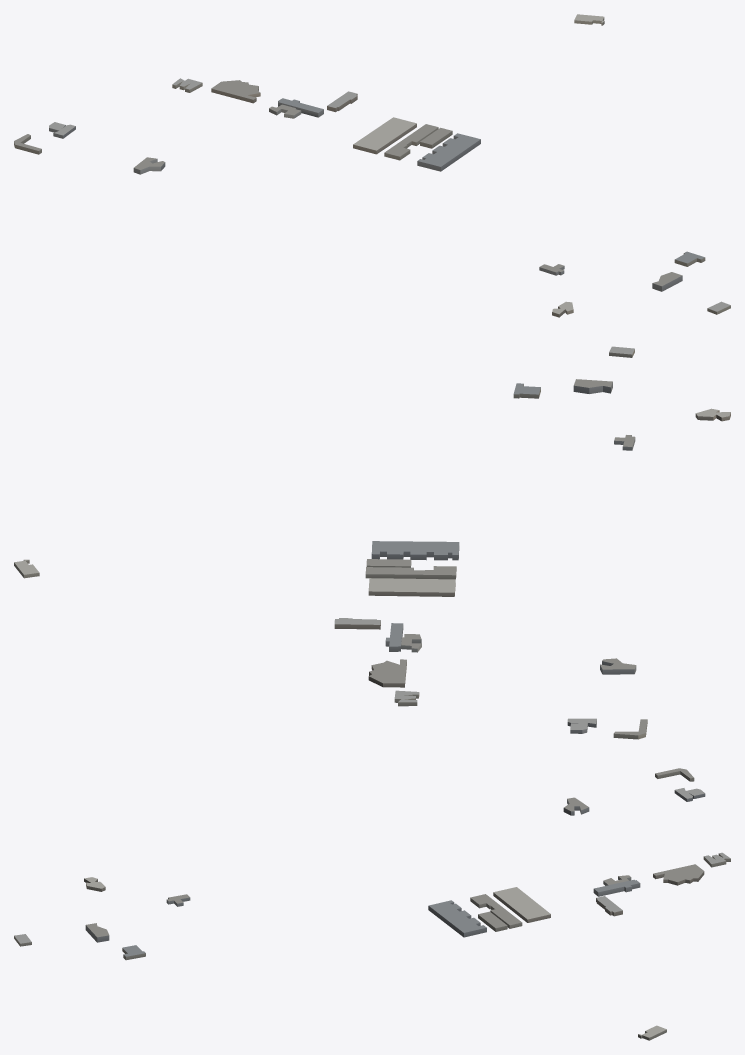
Rendered from bld_15_6.fbx.
3 views of the same model, one above another, from view 1: azimuth 30°, elevation 25°; view 2: azimuth 150°, elevation 25°; view 3: azimuth 270°, elevation 25° (orthographic). The views are drawn at different scales.
Visible parts, largest first — view 1: bld_15_6_LOD0; view 2: bld_15_6_LOD0; view 3: bld_15_6_LOD0.
Boxes of the visible parts, <box> form: bld_15_6_LOD0: <box>14,14,730,317</box>; bld_15_6_LOD0: <box>14,346,730,739</box>; bld_15_6_LOD0: <box>14,768,730,1040</box>.
Size of the model in its own units: 1737 by 15.99 by 1956.
